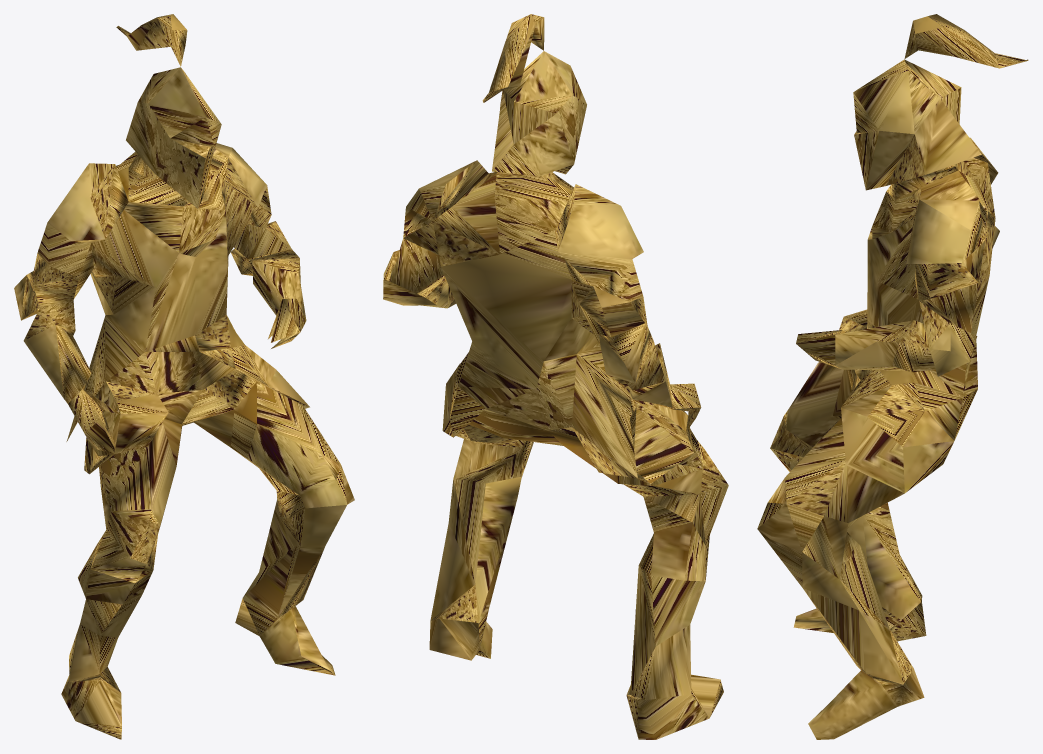
Rendered from ae_knight_rider_royal_lod0.glb.
3 renders of one model, left to right at view 1: azimuth 30°, elevation 25°; view 2: azimuth 150°, elevation 25°; view 3: azimuth 270°, elevation 25°, orthographic. The views are drawn at different scales.
Visible parts, largest first — view 1: output_unwrapped; view 2: output_unwrapped; view 3: output_unwrapped.
Boxes of the visible parts, <box> form: output_unwrapped: <box>14,14,354,739</box>; output_unwrapped: <box>383,14,728,739</box>; output_unwrapped: <box>757,14,1028,739</box>.
Bounding box in the file's own units: 0.7999 × 1.9 × 0.6969.
Materials: 1 (1 with a texture image).
